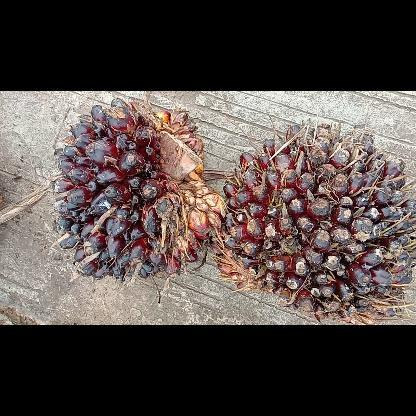TBS mentah: (208, 122, 414, 322), (49, 96, 227, 284)
